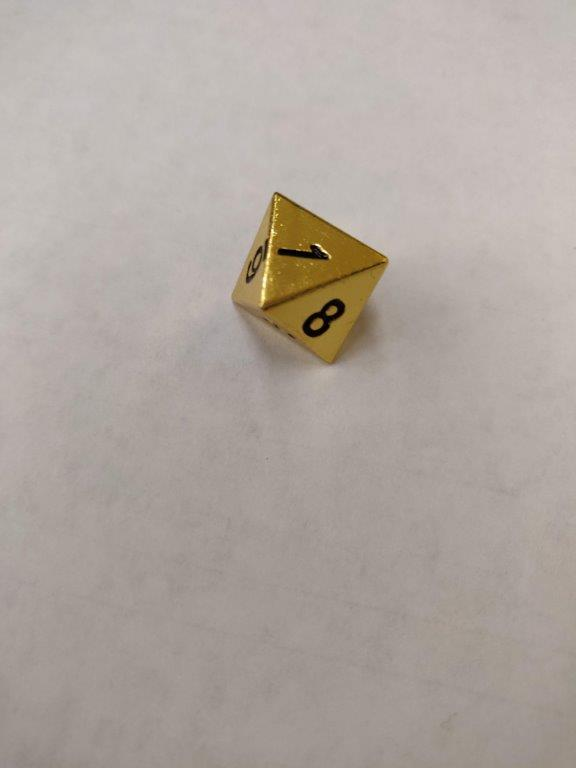d8-1: (230, 191, 388, 368)
